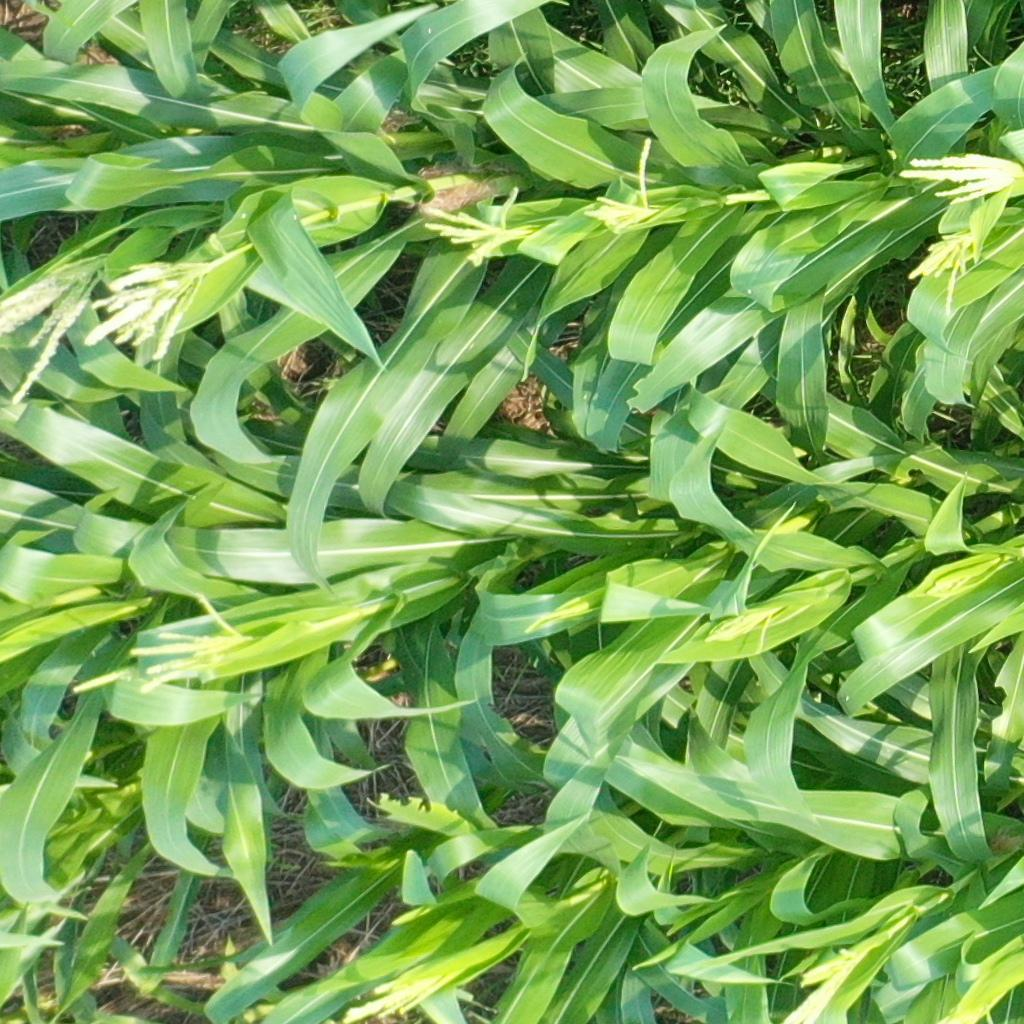Tassel: (57, 593, 259, 691), (1, 246, 114, 413), (81, 257, 217, 372), (413, 184, 544, 269), (573, 133, 661, 239), (900, 144, 1015, 207), (904, 227, 979, 318), (772, 949, 863, 1024), (343, 967, 457, 1022), (696, 604, 785, 656), (723, 187, 772, 212), (926, 569, 969, 595)
